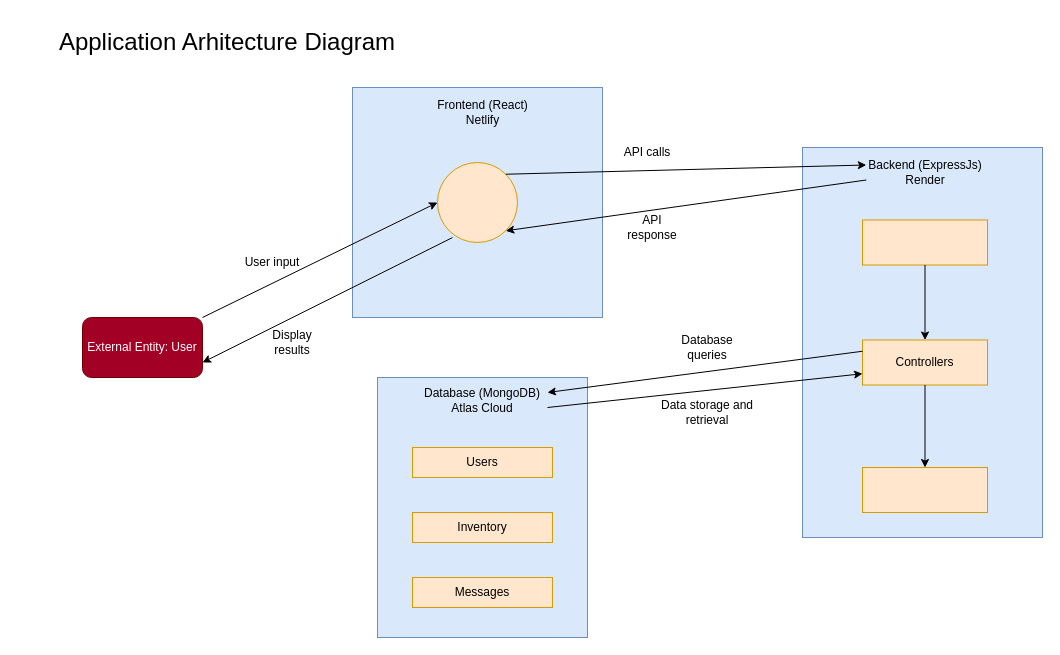
The diagram is 1060 pixels wide and 655 high, and some of its shapes have lost their labels. The shapes that lost their labels are listed below. From the top down, each one's centre as x and y in pixels, then its label:
(477,202): User interface
(925,242): API-routes
(925,489): Models
